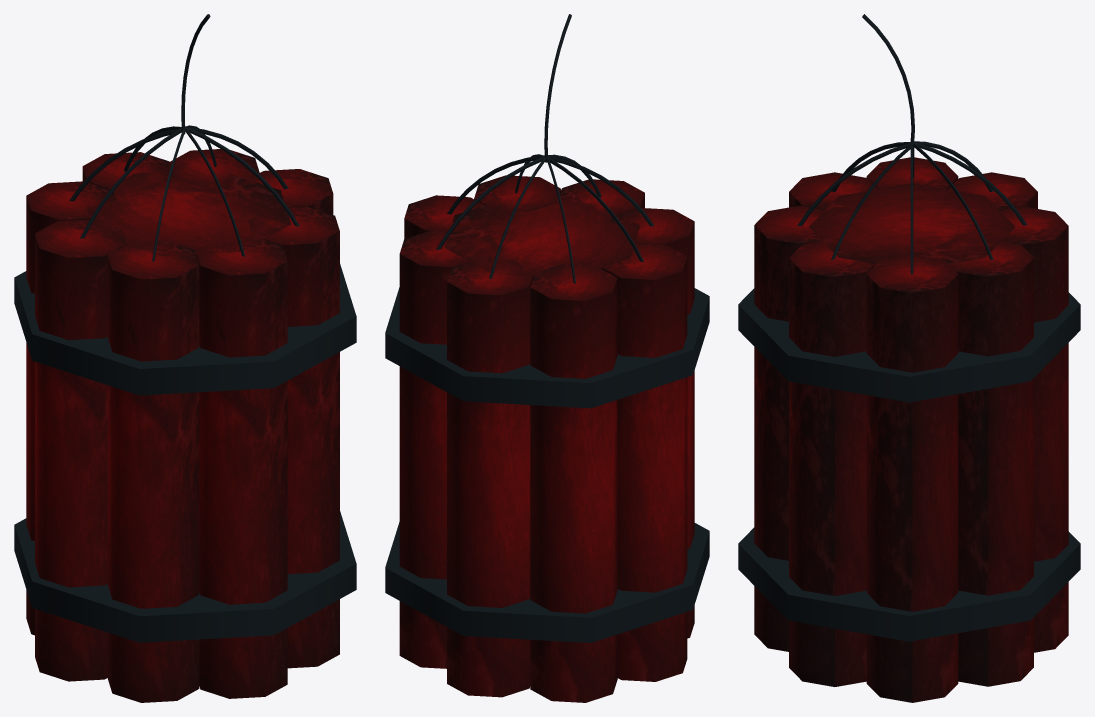
File: dynamite.fbx
3 renders of one model, left to right at view 1: azimuth 30°, elevation 25°; view 2: azimuth 150°, elevation 25°; view 3: azimuth 270°, elevation 25°, orthographic. The views are drawn at different scales.
Visible parts, largest first — view 1: dnymite, lines.1; view 2: dnymite, lines.1; view 3: dnymite, lines.1.
Boxes of the visible parts, x1,y1,x2,y2 form: dnymite: (26, 149, 339, 702); lines.1: (14, 14, 356, 642); dnymite: (399, 175, 694, 702); lines.1: (385, 14, 709, 642); dnymite: (754, 157, 1068, 702); lines.1: (738, 14, 1080, 641).
Bounding box in the file's own units: 398 × 794 × 398.
2 materials, 1 textured.
